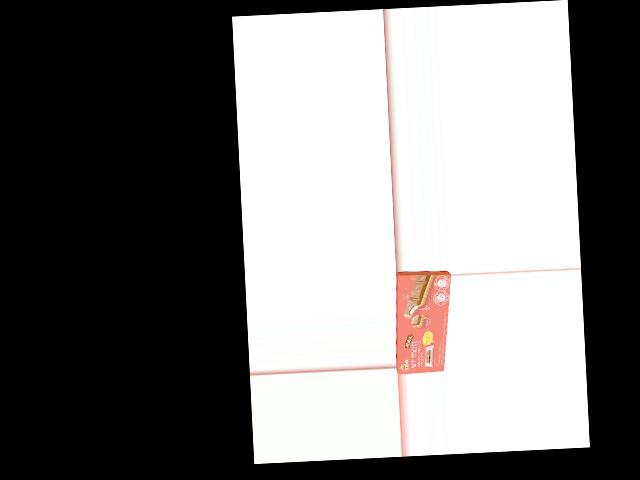chocolate: (395, 270, 449, 374)
